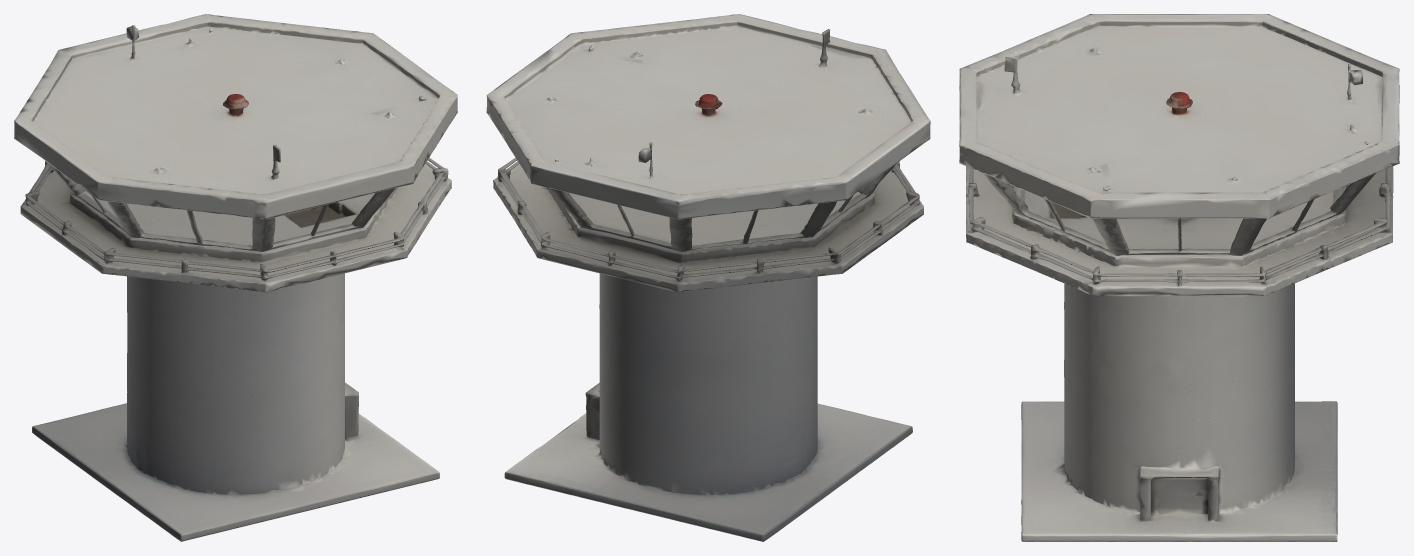
The model's file is aero_torre.glb.
3 renders of one model, left to right at view 1: azimuth 30°, elevation 25°; view 2: azimuth 150°, elevation 25°; view 3: azimuth 270°, elevation 25°, orthographic. The views are drawn at different scales.
Visible parts, largest first — view 1: tripo_node_d9af75ac-195c-4e00-a843-754c479df445; view 2: tripo_node_d9af75ac-195c-4e00-a843-754c479df445; view 3: tripo_node_d9af75ac-195c-4e00-a843-754c479df445.
Part boxes in pixels (left/top/right/bottom): tripo_node_d9af75ac-195c-4e00-a843-754c479df445: left=14, top=14, right=457, bottom=541; tripo_node_d9af75ac-195c-4e00-a843-754c479df445: left=486, top=14, right=930, bottom=541; tripo_node_d9af75ac-195c-4e00-a843-754c479df445: left=959, top=14, right=1399, bottom=541.
Size of the model in its own units: 1 by 1 by 1.
1 material, 1 textured.
